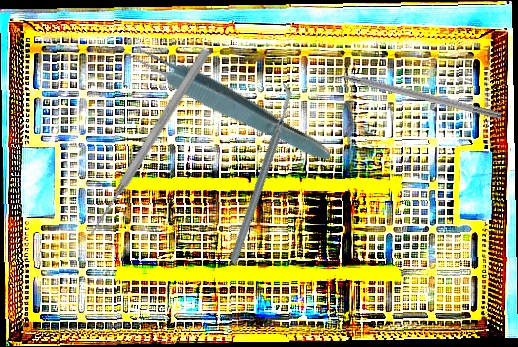Chopper: (170, 81, 349, 267)
Hook Surgical: (312, 63, 503, 121)
Pusher: (85, 47, 212, 239)
Tissue Forceps: (116, 33, 339, 170)
